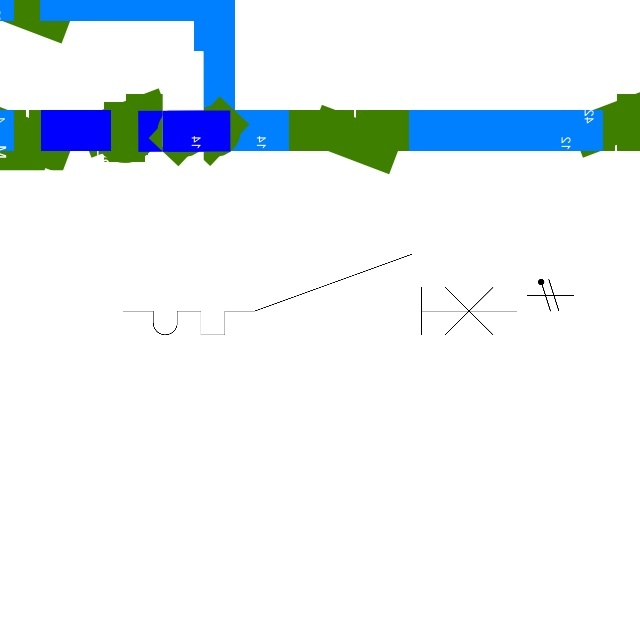interruptor_termomagnetico: (113, 244, 527, 345)
